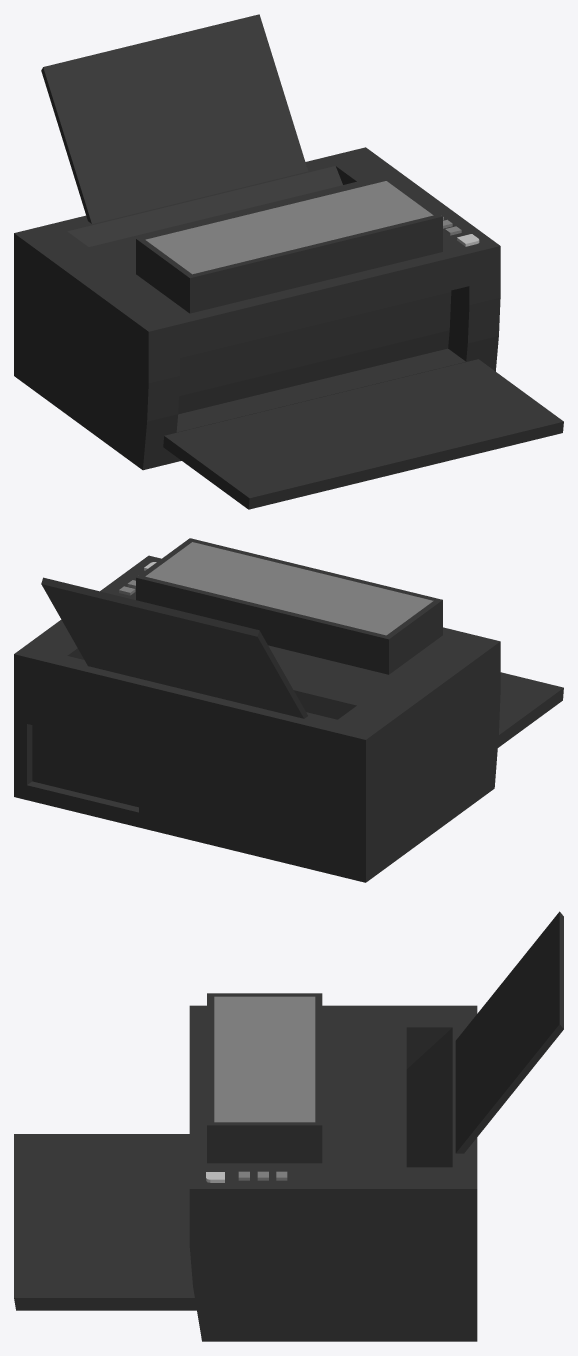
File: PrinterModel.glb
The picture shows the model from 3 angles, top to bottom: view 1: azimuth 30°, elevation 25°; view 2: azimuth 150°, elevation 25°; view 3: azimuth 270°, elevation 25°; orthographic projection. The views are drawn at different scales.
Visible parts, largest first — view 1: Printer.001; view 2: Printer.001; view 3: Printer.001.
Part boxes in pixels (bbox=[...]): Printer.001: bbox=[14, 14, 563, 509]; Printer.001: bbox=[14, 538, 563, 882]; Printer.001: bbox=[14, 911, 563, 1341].
Bounding box in the file's own units: 0.7227 × 0.5186 × 0.9158.
Materials: 1 (1 with a texture image).
